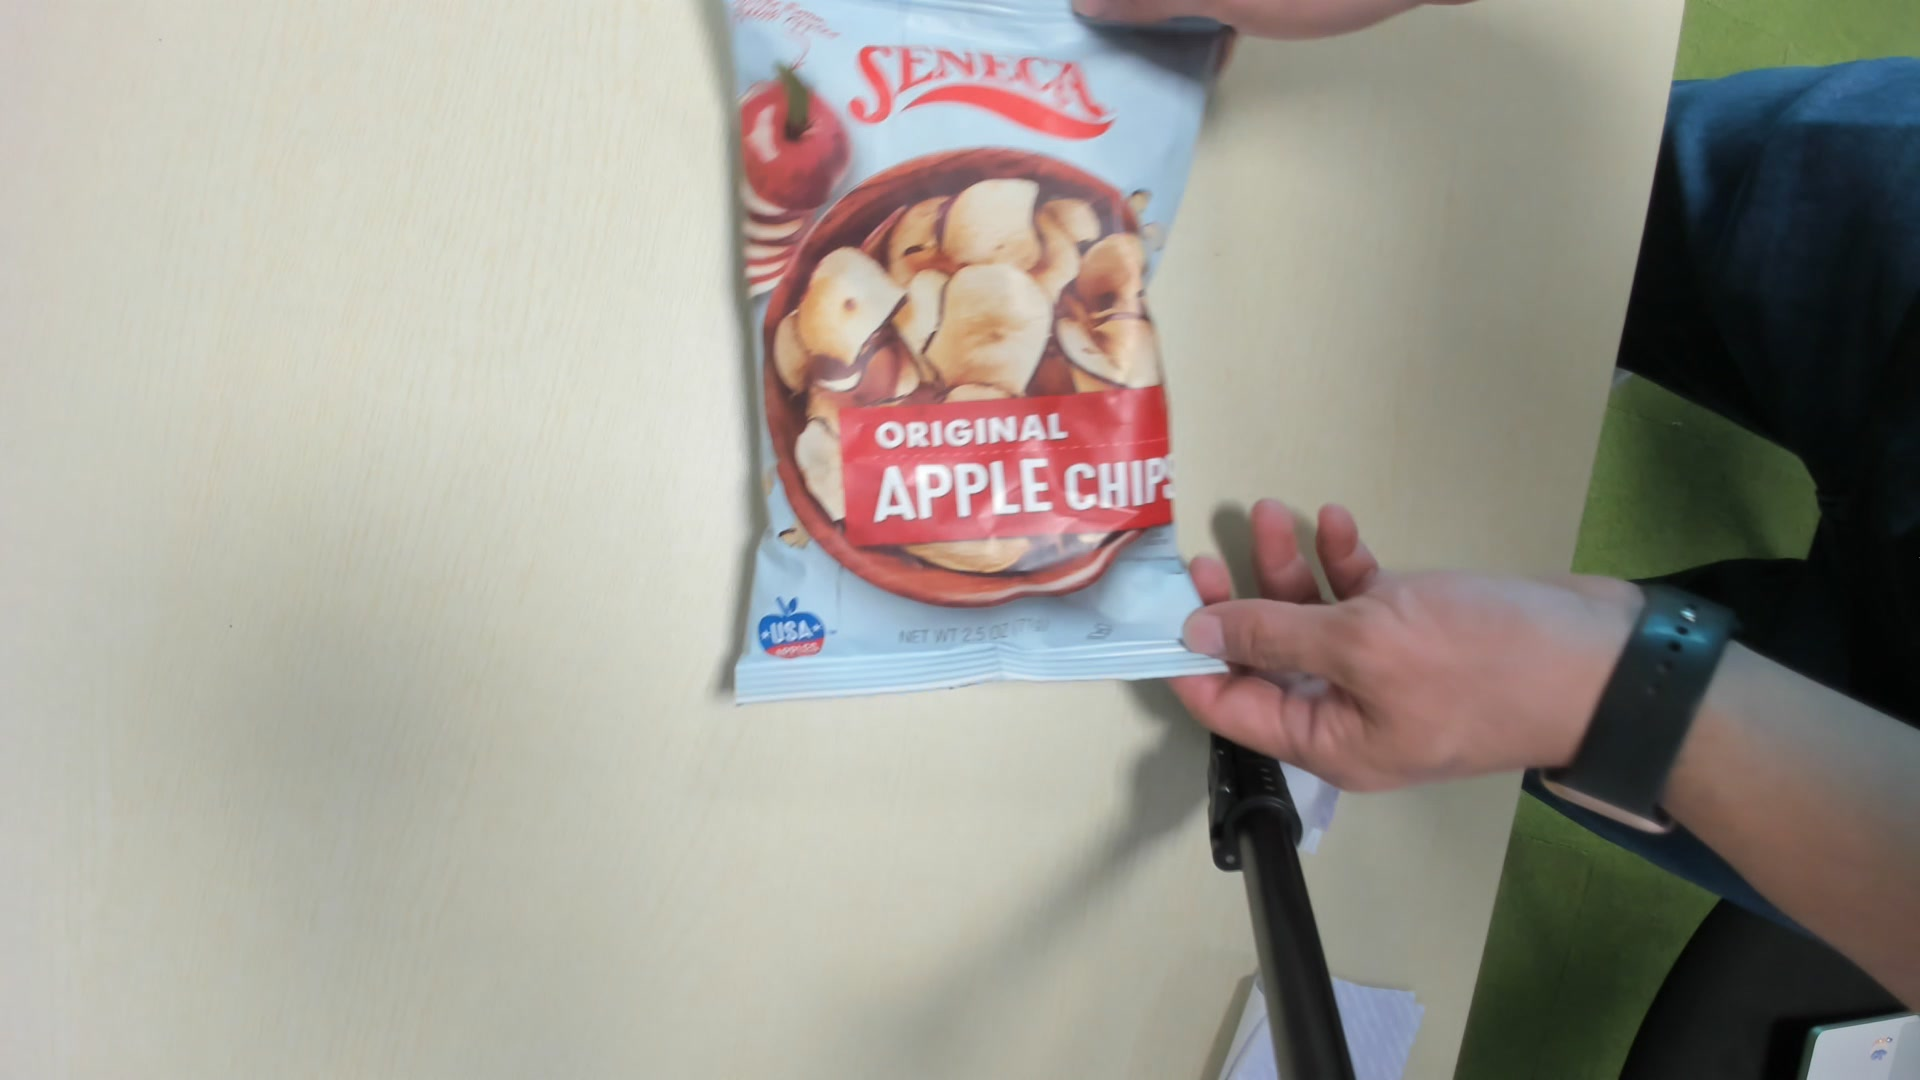PotatoChipsKeropok_0-99g_NonHalal_NonHealthy: (709, 8, 1229, 694)
